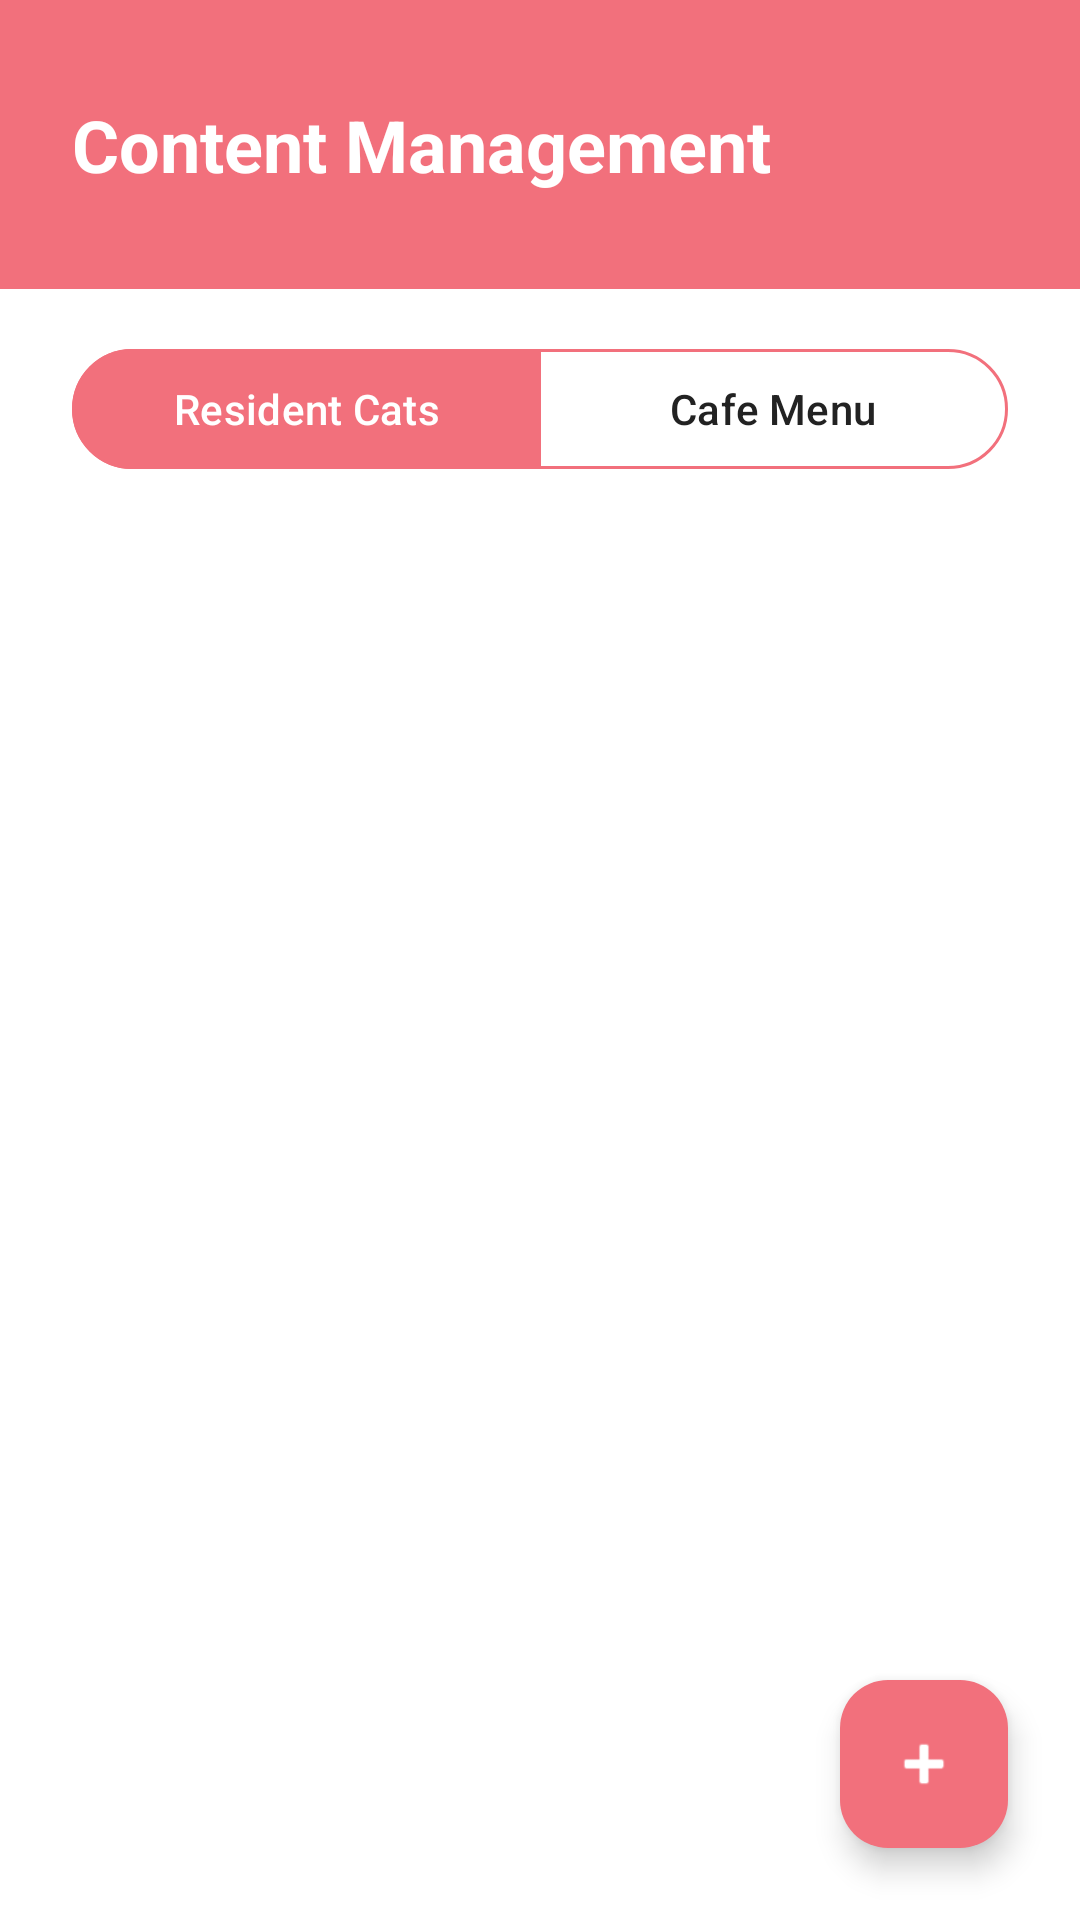

Screen size 1080 x 1920. Icon name, then its box in pixels as (x1, y1, x2, y2):
Add a new cat: (840, 1680, 1008, 1848)
